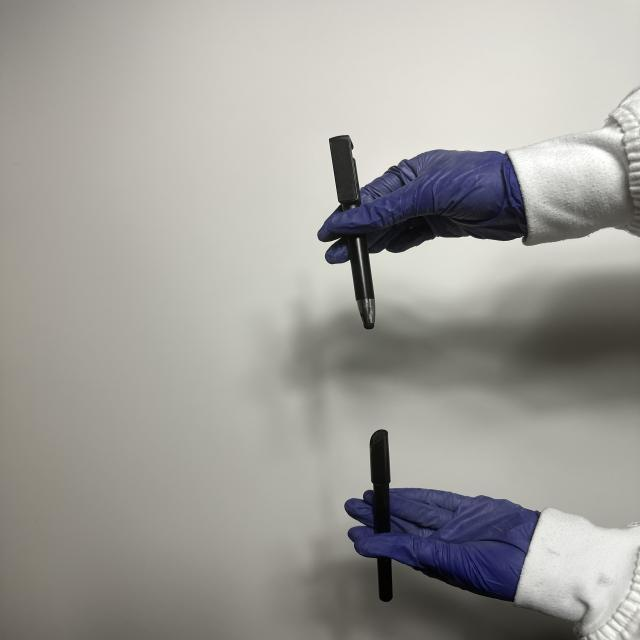gloves_contaminated: (318, 150, 526, 264), (345, 488, 540, 602)
